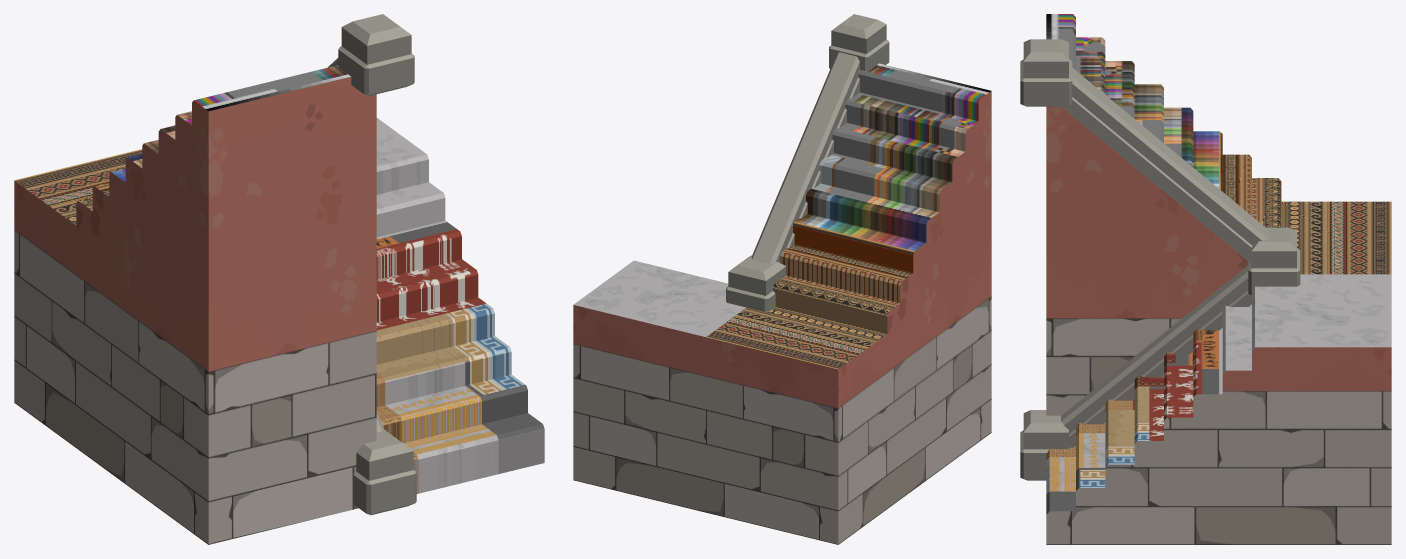
Rendered from ancient_SM_Bld_Stairs_Corner_02.gltf.
3 views of the same model, side by side, from view 1: azimuth 30°, elevation 25°; view 2: azimuth 150°, elevation 25°; view 3: azimuth 270°, elevation 25° (orthographic). The views are drawn at different scales.
Visible parts, largest first — view 1: SM_Bld_Stairs_Corner_02; view 2: SM_Bld_Stairs_Corner_02; view 3: SM_Bld_Stairs_Corner_02.
Part boxes in pixels (bbox=[...]): SM_Bld_Stairs_Corner_02: bbox=[14, 14, 544, 544]; SM_Bld_Stairs_Corner_02: bbox=[573, 14, 991, 544]; SM_Bld_Stairs_Corner_02: bbox=[1020, 14, 1391, 544].
Size of the model in its own units: 2.5 by 3.41 by 2.69.
3 materials, 3 textured.
